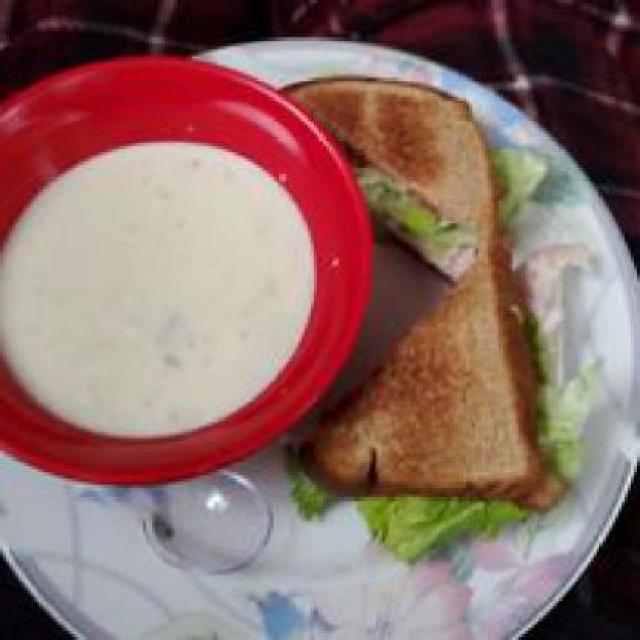clam chowder: (9, 77, 336, 448)
club sandwich: (289, 65, 556, 562)
